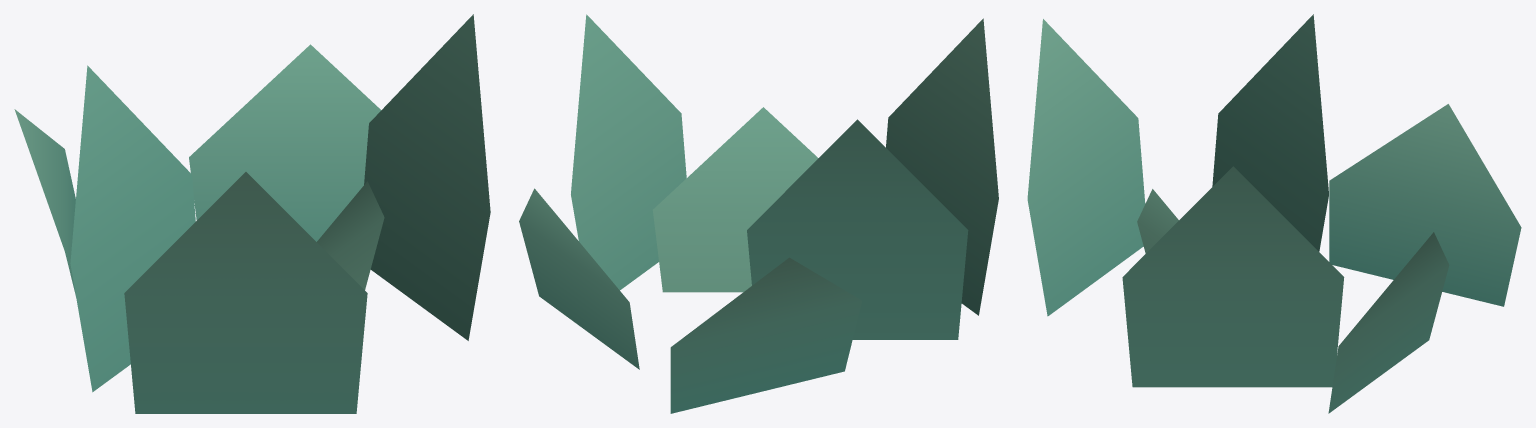
File: grass.glb
The picture shows the model from 3 angles, left to right: view 1: azimuth 30°, elevation 25°; view 2: azimuth 150°, elevation 25°; view 3: azimuth 270°, elevation 25°; orthographic projection. The views are drawn at different scales.
Parts seen in each view (by area): view 1: grass; view 2: grass; view 3: grass.
Part boxes in pixels (x1,y1,x2,y2): grass: [14, 14, 490, 413]; grass: [519, 14, 998, 413]; grass: [1027, 14, 1521, 413].
Size of the model in its own units: 0.2345 by 0.1425 by 0.2573.
